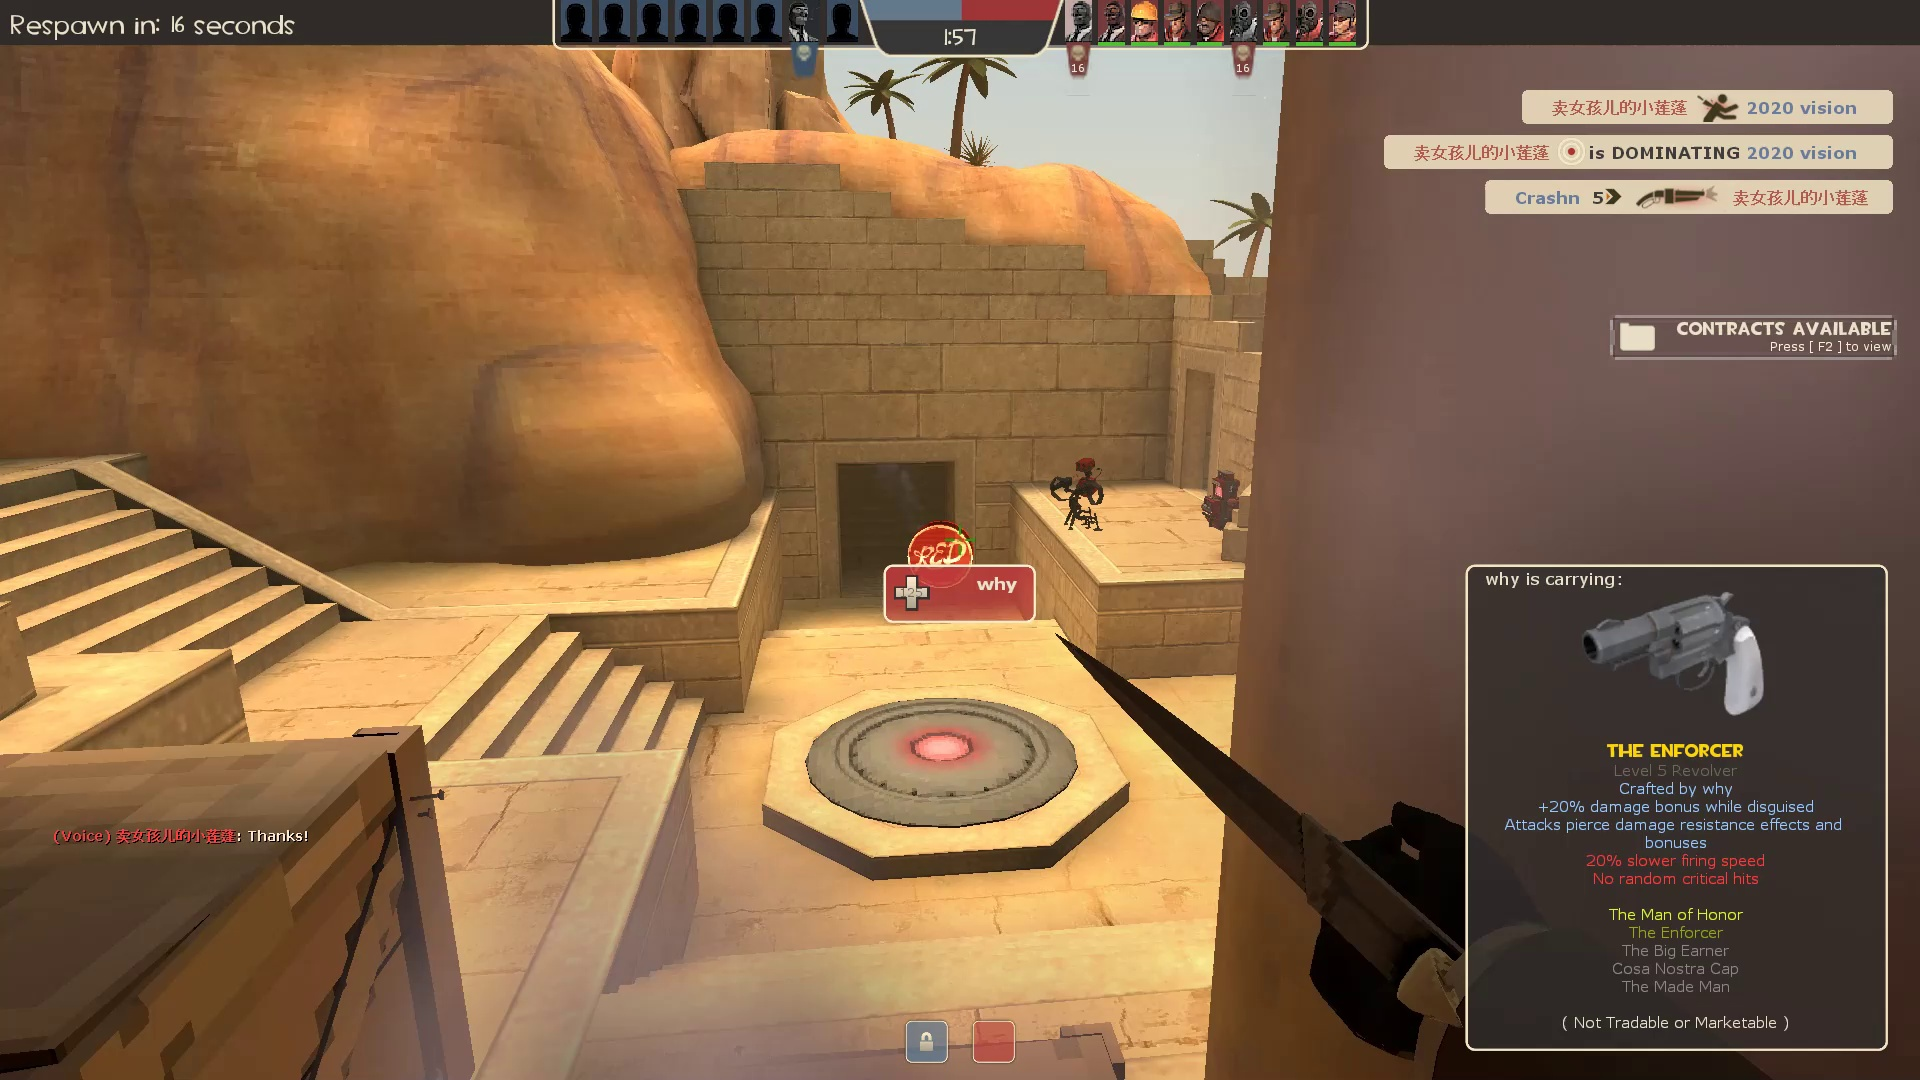red_dispenser: (1197, 464, 1250, 541)
red_sentry_3: (1044, 454, 1113, 535)
